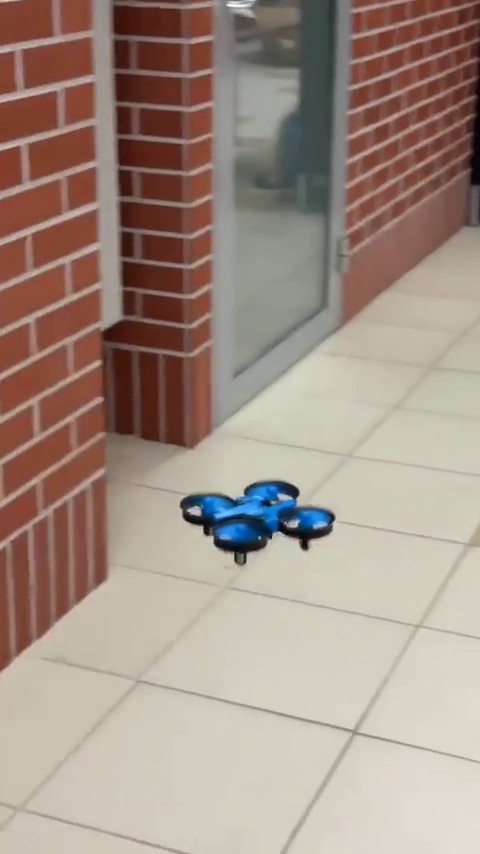drone: (174, 479, 342, 559)
